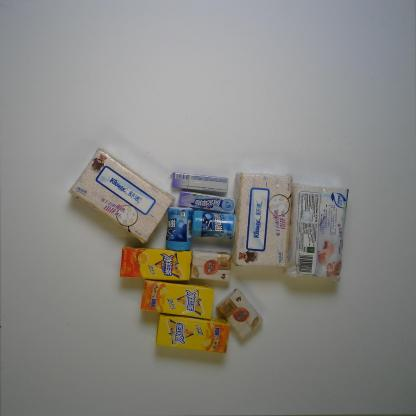Candy: (175, 189, 237, 216), (169, 170, 230, 194)
Drink: (155, 310, 232, 355), (139, 278, 217, 320), (118, 242, 193, 282)
Gum: (190, 208, 237, 241), (164, 205, 196, 252)
Tissue: (66, 145, 177, 245), (284, 180, 350, 284), (230, 169, 294, 271), (215, 286, 265, 342), (189, 248, 233, 284)
